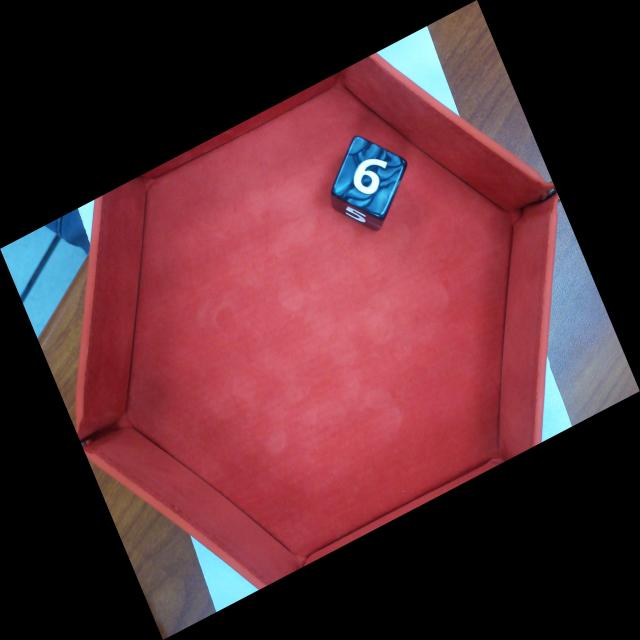dice: (332, 137, 408, 218)
